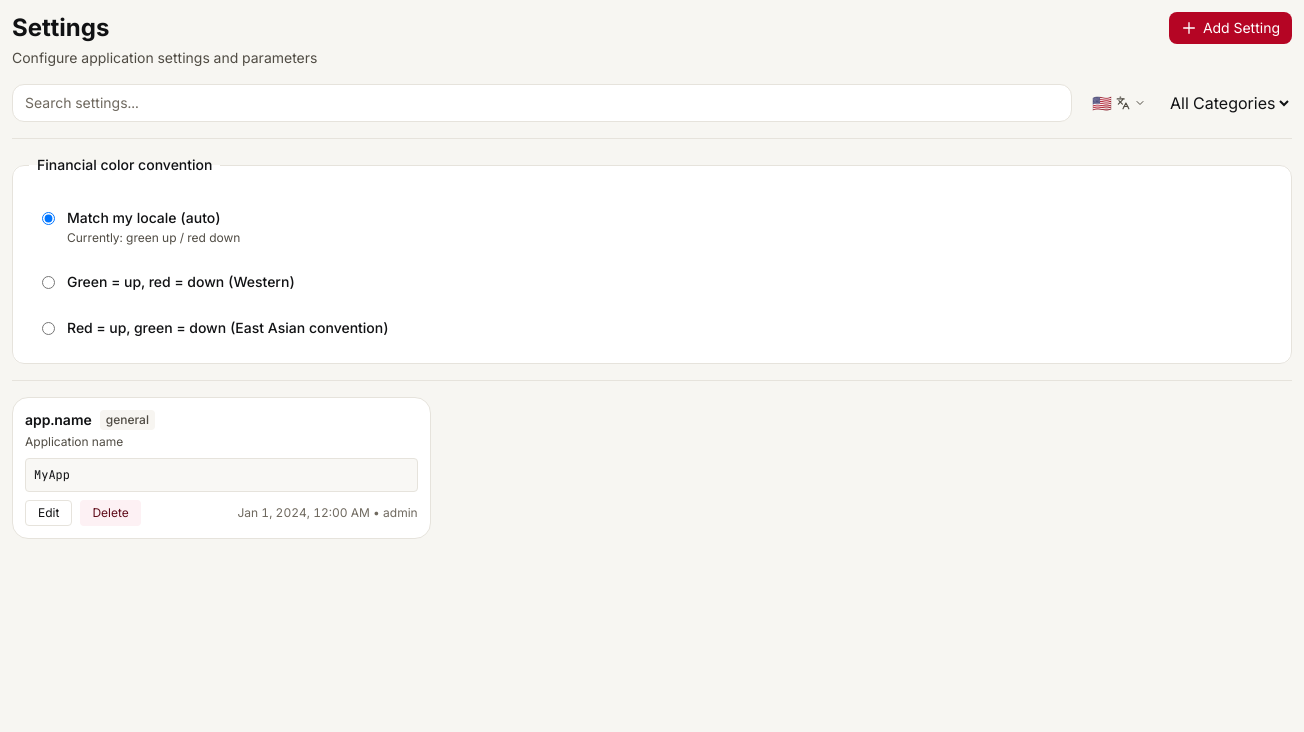
Test: Settings › enters edit mode when Edit button is clicked
Check: the heading "app.name" is shown, box [25, 410, 92, 430]
Click the button "Edit".
click(49, 513)  # box [25, 500, 72, 526]
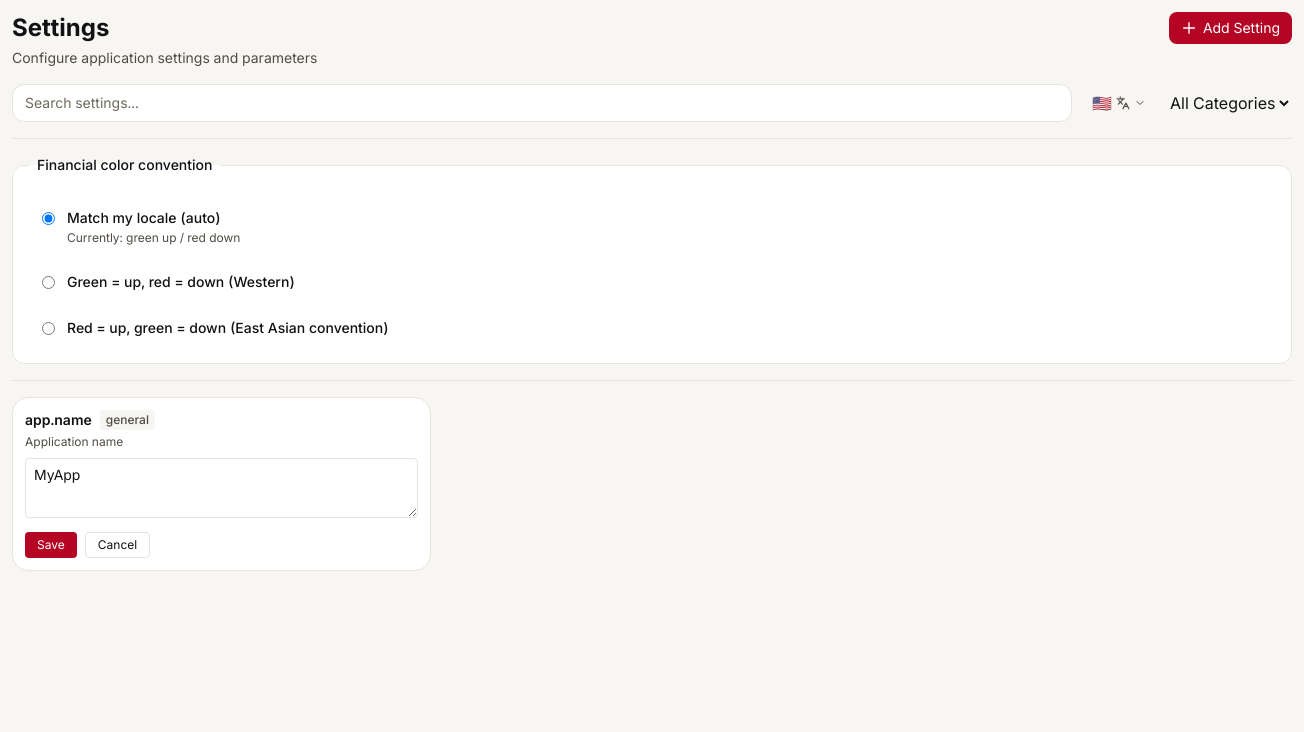
Check: the button "Cancel" is shown, box [85, 532, 150, 558]
Check: the button "Save" is shown, box [25, 532, 77, 558]
